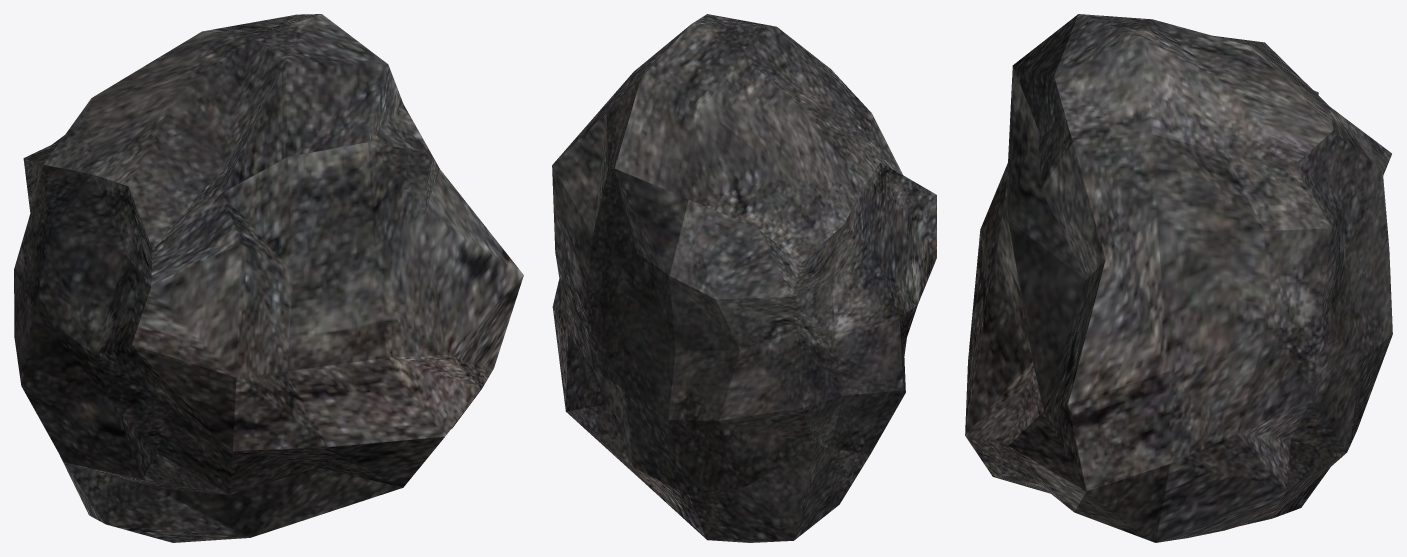
The model's file is rock1fbx.fbx.
The picture shows the model from 3 angles, left to right: view 1: azimuth 30°, elevation 25°; view 2: azimuth 150°, elevation 25°; view 3: azimuth 270°, elevation 25°; orthographic projection. The views are drawn at different scales.
Visible parts, largest first — view 1: rock1; view 2: rock1; view 3: rock1.
Part boxes in pixels (x1,y1,x2,y2): rock1: (14, 14, 523, 542); rock1: (552, 14, 936, 542); rock1: (965, 14, 1392, 542).
Size of the model in its own units: 226 by 263 by 186.
